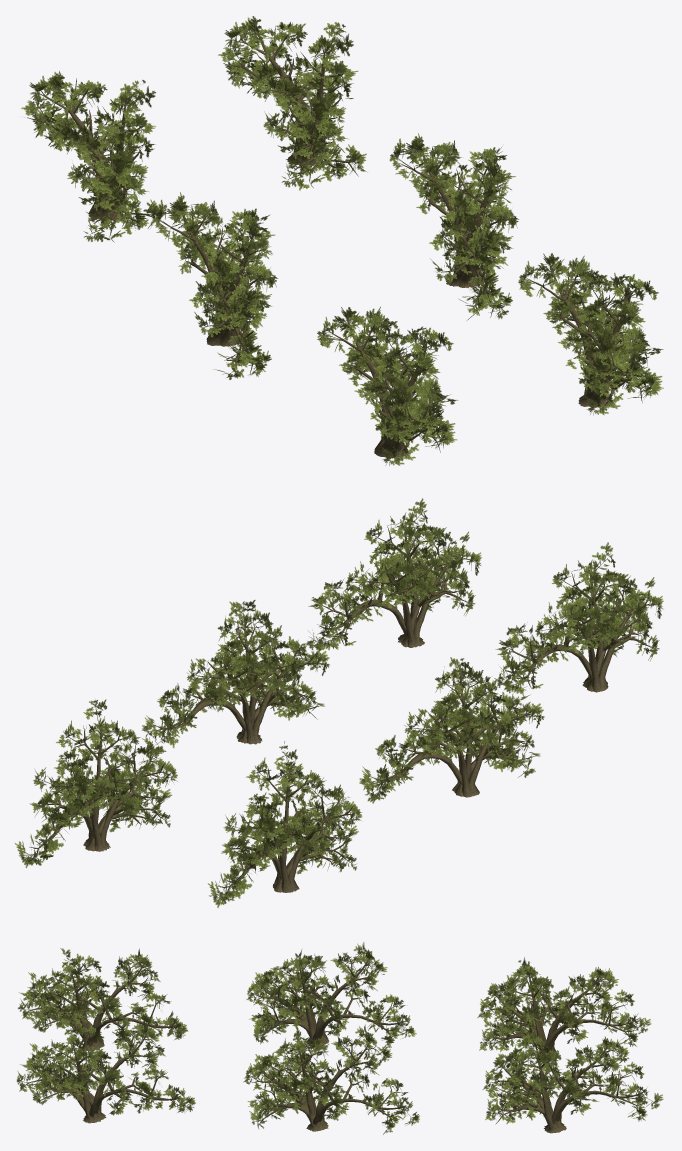
Rendered from vv_robles_variantes.glb.
3 renders of one model, top to bottom at view 1: azimuth 30°, elevation 25°; view 2: azimuth 150°, elevation 25°; view 3: azimuth 270°, elevation 25°, orthographic. The views are drawn at different scales.
Visible parts, largest first — view 1: oak_3, oak_3_lod, oak_1, oak_2, oak_2_lod, oak_1_lod; view 2: oak_2, oak_3, oak_2_lod, oak_1, oak_3_lod, oak_1_lod; view 3: oak_2, oak_3, oak_2_lod, oak_1, oak_3_lod, oak_1_lod.
Boxes of the visible parts, <box> form: oak_3: <box>218,16,367,190</box>; oak_3_lod: <box>21,71,167,242</box>; oak_1: <box>518,253,663,415</box>; oak_2: <box>389,133,518,320</box>; oak_2_lod: <box>152,192,277,379</box>; oak_1_lod: <box>317,306,458,465</box>; oak_2: <box>142,600,329,755</box>; oak_3: <box>14,699,177,868</box>; oak_2_lod: <box>359,657,544,803</box>; oak_1: <box>307,498,481,650</box>; oak_3_lod: <box>207,741,362,907</box>; oak_1_lod: <box>493,542,663,696</box>; oak_2: <box>243,1024,419,1134</box>; oak_3: <box>482,1024,663,1133</box>; oak_2_lod: <box>246,942,416,1047</box>; oak_1: <box>17,1018,195,1123</box>; oak_3_lod: <box>477,957,651,1056</box>; oak_1_lod: <box>18,948,188,1050</box>.
Bounding box in the file's own units: 550 × 226 × 1188.
12 materials, 12 textured.
